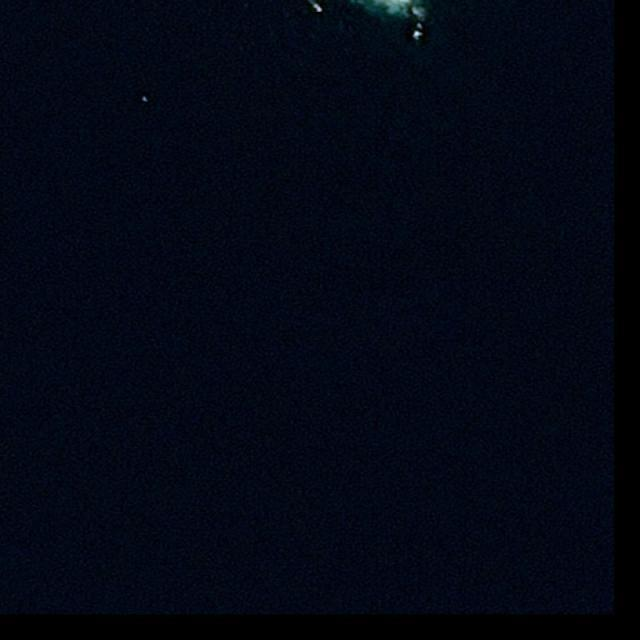ship: (312, 2, 325, 14)
